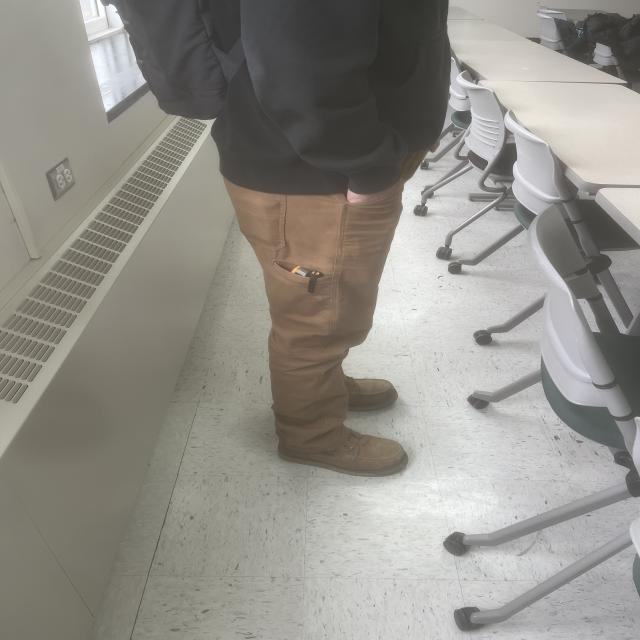Boots: (272, 374, 415, 480)
